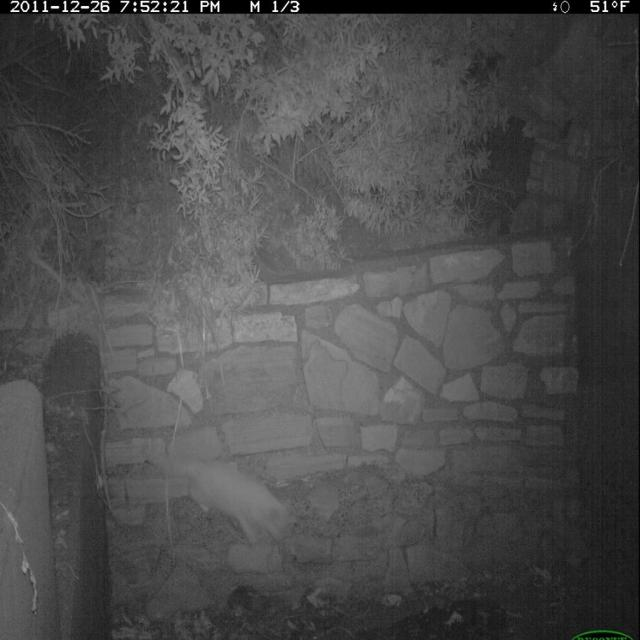cat: (150, 436, 306, 565)
